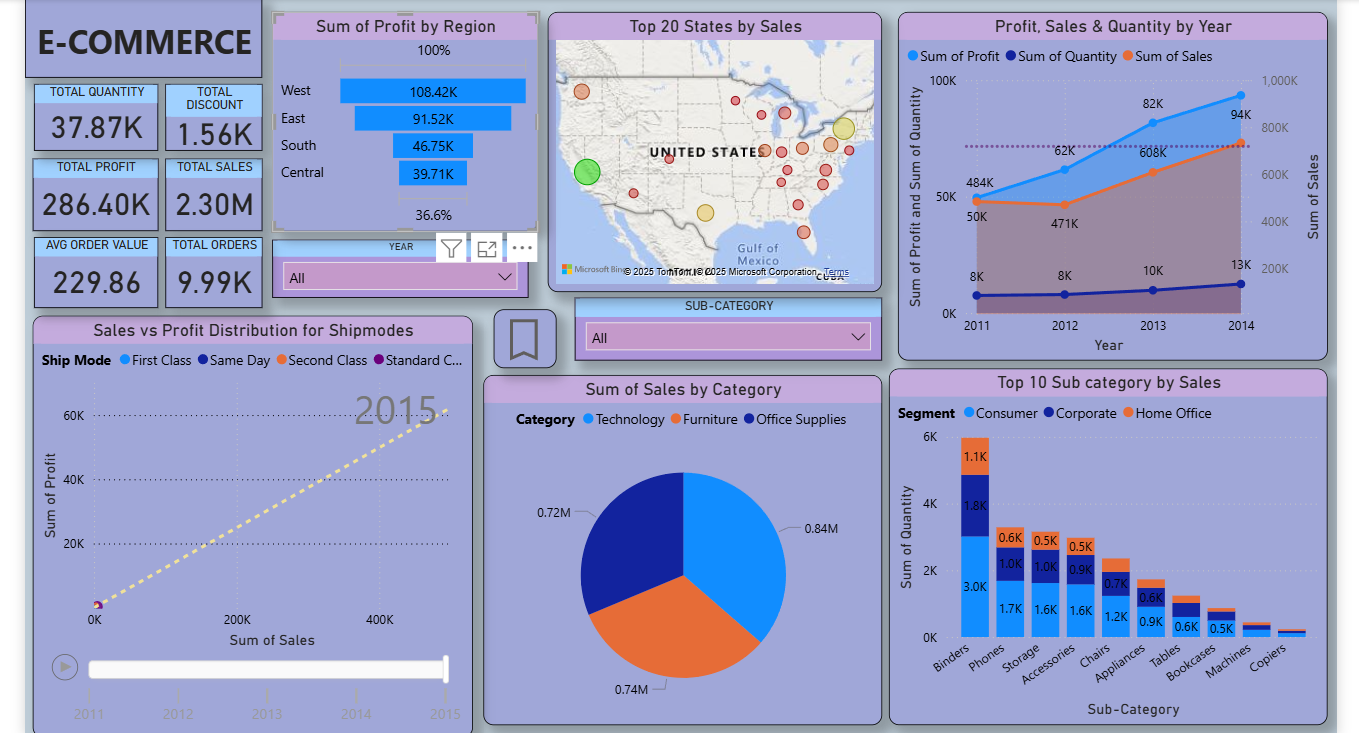

What the dashboard file says about the page in this screenshot:
{"tool":"powerbi","page":{"name":"DASHBOARD","canvas":[1280,720],"ordinal":0},"visuals":[{"type":"textbox","box":[0,0,231.4,77.1],"z":0},{"type":"card","title":"TOTAL PROFIT","fields":{"Values":["Sum(Data.Profit)"]},"box":[8,156.1,122.4,70.9],"z":1000},{"type":"card","title":"TOTAL SALES","fields":{"Values":["Sum(Data.Sales)"]},"box":[136.6,156.1,94.9,70.9],"z":2000},{"type":"card","title":"TOTAL QUANTITY","fields":{"Values":["Sum(Data.Quantity)"]},"box":[8.9,83.3,121.5,65.6],"z":3000},{"type":"card","title":"TOTAL DISCOUNT","fields":{"Values":["Sum(Data.Discount)"]},"box":[136.6,83.3,94.9,65.6],"z":4000},{"type":"pieChart","fields":{"Y":["Sum(Data.Sales)"],"Category":["Data.Category"]},"box":[446.9,366.2,389.3,341.4],"z":5000},{"type":"slicer","title":"SUB-CATEGORY","fields":{"Values":["Data.Sub-Category"]},"box":[536.5,291.7,299.7,61.2],"z":6000},{"type":"slicer","title":"YEAR","fields":{"Values":["Data.Order Date.Variation.Date Hierarchy.Year"]},"box":[241.2,235,250,56.7],"z":7000},{"type":"areaChart","title":"Profit, Sales & Quantity by Year","fields":{"Category":["Data.Order Date.Variation.Date Hierarchy.Year"],"Y":["Sum(Data.Profit)","Sum(Data.Quantity)"],"Y2":["Sum(Data.Sales)"]},"box":[851.2,12.4,419.4,340.5],"z":8000},{"type":"map","title":"Top 20 States by Sales","fields":{"Category":["Data.State"],"Size":["Sum(Data.Sales)"]},"box":[509.9,12.4,326.3,273.1],"z":9000},{"type":"funnel","fields":{"Y":["Sum(Data.Profit)"],"Category":["Data.Region"]},"box":[241.2,12.4,259.8,214.6],"z":10000},{"type":"scatterChart","title":"Sales vs Profit Distribution for Shipmodes","fields":{"Play":["Data.Ship Date.Variation.Date Hierarchy.Year"],"X":["Data.Sales"],"Y":["Sum(Data.Profit)"],"Size":["Sum(Data.Discount)"],"Series":["Data.Ship Mode"]},"box":[8,308.6,429.2,411.4],"z":11000},{"type":"columnChart","title":"Top 10 Sub category by Sales","fields":{"Category":["Data.Sub-Category"],"Y":["Sum(Data.Quantity)"],"Series":["Data.Segment"]},"box":[842.4,360,428.3,347.6],"z":12000},{"type":"card","title":"AVG ORDER VALUE","fields":{"Values":["Data.avg_order_value"]},"box":[8.9,232.3,121.5,69.2],"z":13000},{"type":"card","title":"TOTAL ORDERS","fields":{"Values":["CountNonNull(Data.Order ID)"]},"box":[136.6,232.3,94.9,69.2],"z":14000},{"type":"actionButton","title":"PG2","box":[456.7,302.4,61.2,57.6],"z":15000}]}

Visuals, with their boxes on the page's 1280x720 design canvas (x1, y1, x2, y2). These are canvas units, not pixel positions in the 1359x733 screenshot, which may show the page scaled, cropped or inside an application window:
textbox: (x1=0, y1=0, x2=231, y2=77)
"TOTAL PROFIT" card: (x1=8, y1=156, x2=130, y2=227)
"TOTAL SALES" card: (x1=137, y1=156, x2=232, y2=227)
"TOTAL QUANTITY" card: (x1=9, y1=83, x2=130, y2=149)
"TOTAL DISCOUNT" card: (x1=137, y1=83, x2=232, y2=149)
pieChart - Sum(Data.Sales) x Data.Category: (x1=447, y1=366, x2=836, y2=708)
"SUB-CATEGORY" slicer: (x1=536, y1=292, x2=836, y2=353)
"YEAR" slicer: (x1=241, y1=235, x2=491, y2=292)
"Profit, Sales & Quantity by Year" areaChart: (x1=851, y1=12, x2=1271, y2=353)
"Top 20 States by Sales" map: (x1=510, y1=12, x2=836, y2=286)
funnel - Sum(Data.Profit) x Data.Region: (x1=241, y1=12, x2=501, y2=227)
"Sales vs Profit Distribution for Shipmodes" scatterChart: (x1=8, y1=309, x2=437, y2=720)
"Top 10 Sub category by Sales" columnChart: (x1=842, y1=360, x2=1271, y2=708)
"AVG ORDER VALUE" card: (x1=9, y1=232, x2=130, y2=302)
"TOTAL ORDERS" card: (x1=137, y1=232, x2=232, y2=302)
"PG2" actionButton: (x1=457, y1=302, x2=518, y2=360)
